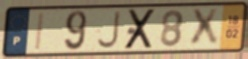8: (159, 9, 185, 49)
9: (62, 9, 91, 52)
I: (33, 11, 47, 52)
J: (95, 9, 122, 50)
X: (122, 7, 159, 52), (189, 7, 220, 49)
